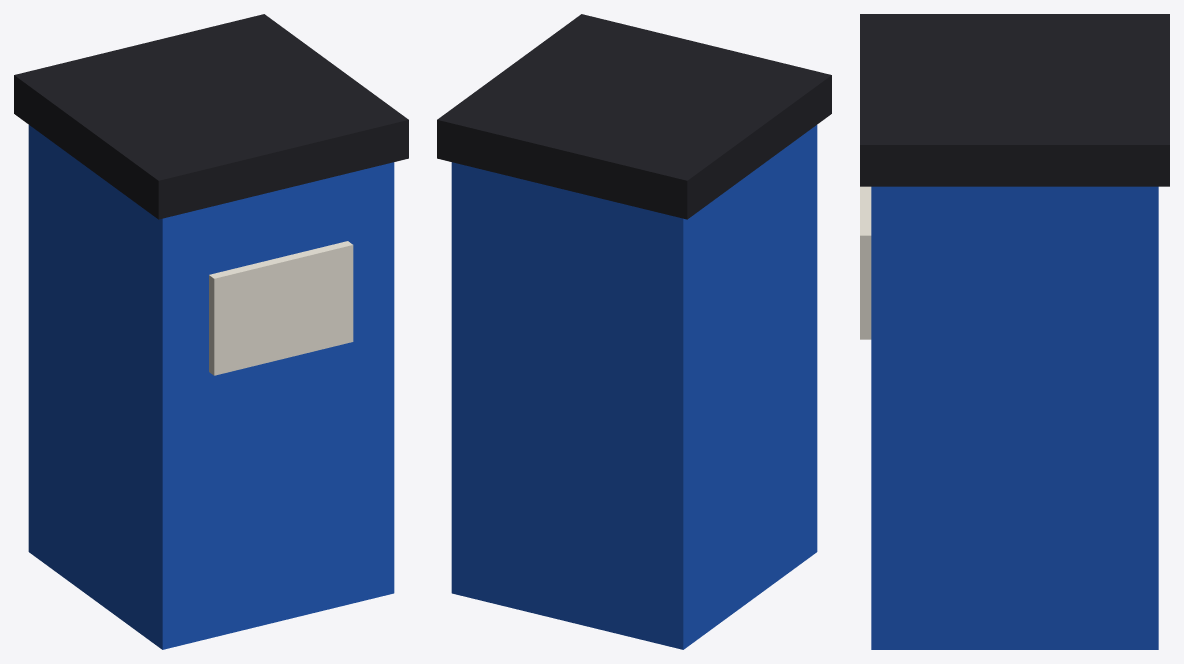
The model's file is recycling_bin.glb.
3 renders of one model, left to right at view 1: azimuth 30°, elevation 25°; view 2: azimuth 150°, elevation 25°; view 3: azimuth 270°, elevation 25°, orthographic. The views are drawn at different scales.
Visible parts, largest first — view 1: recycling_bin; view 2: recycling_bin; view 3: recycling_bin.
Part boxes in pixels (x1,y1,x2,y2): recycling_bin: (14, 14, 408, 649); recycling_bin: (437, 14, 831, 649); recycling_bin: (860, 14, 1169, 649).
Bounding box in the file's own units: 0.54 × 0.98 × 0.54.
